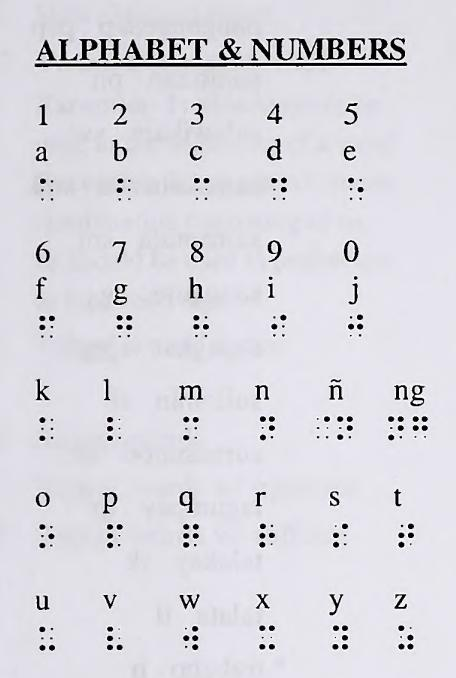digit_4: (316, 416, 331, 438)
letter_a: (39, 176, 55, 202)
letter_b: (116, 178, 133, 201)
letter_c: (192, 175, 211, 202)
letter_d: (269, 176, 289, 201)
letter_e: (348, 177, 364, 200)
letter_f: (38, 314, 55, 339)
letter_g: (116, 315, 132, 338), (413, 416, 428, 440)
letter_h: (193, 315, 209, 337)
letter_i: (272, 314, 286, 337)
letter_j: (348, 314, 364, 337)
letter_k: (37, 416, 54, 441)
letter_l: (106, 416, 121, 442)
letter_m: (182, 415, 199, 442)
letter_n: (259, 415, 275, 441), (337, 415, 353, 440), (388, 416, 404, 441)
letter_o: (39, 523, 56, 550)
letter_p: (106, 523, 123, 550)
letter_q: (183, 523, 200, 549)
letter_r: (258, 523, 276, 550)
letter_s: (333, 522, 349, 549)
letter_t: (398, 522, 414, 548)
letter_u: (38, 625, 55, 652)
letter_v: (105, 625, 125, 652)
letter_w: (182, 625, 199, 651)
letter_x: (259, 624, 275, 651)
letter_y: (333, 625, 349, 650)
letter_z: (397, 625, 413, 651)
